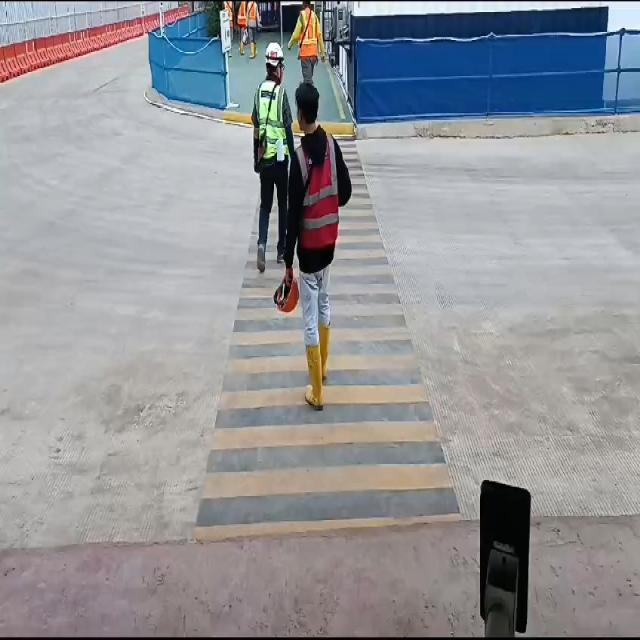helmet: (272, 275, 302, 315), (265, 41, 284, 60)
safety_vest: (302, 135, 334, 252), (255, 80, 288, 160), (299, 10, 321, 55), (247, 4, 259, 28), (236, 0, 248, 22)
